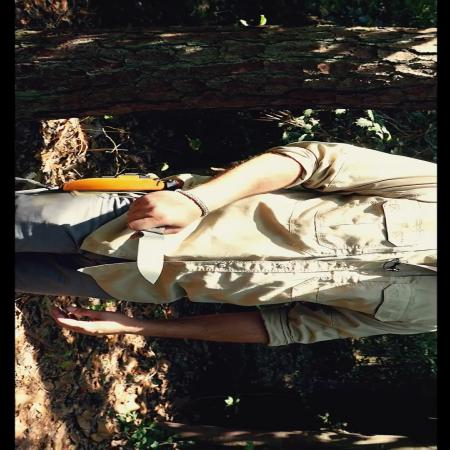long weapon: (120, 192, 202, 290)
